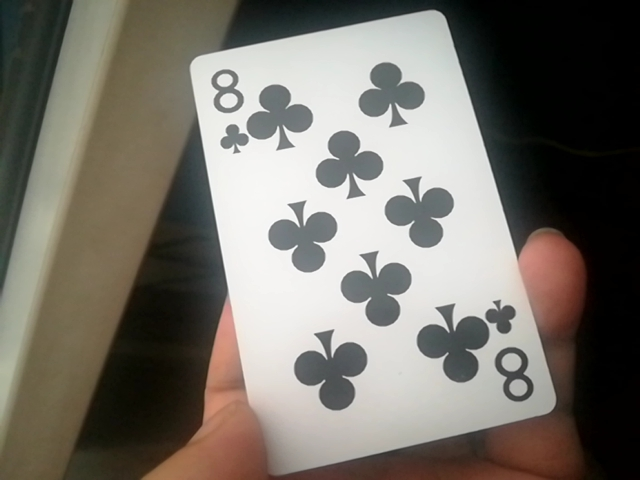mh 8: (192, 15, 572, 480)
